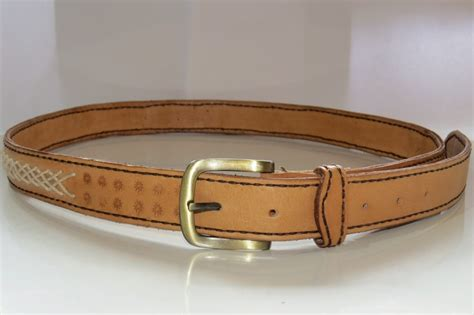cuero: (4, 100, 473, 241)
